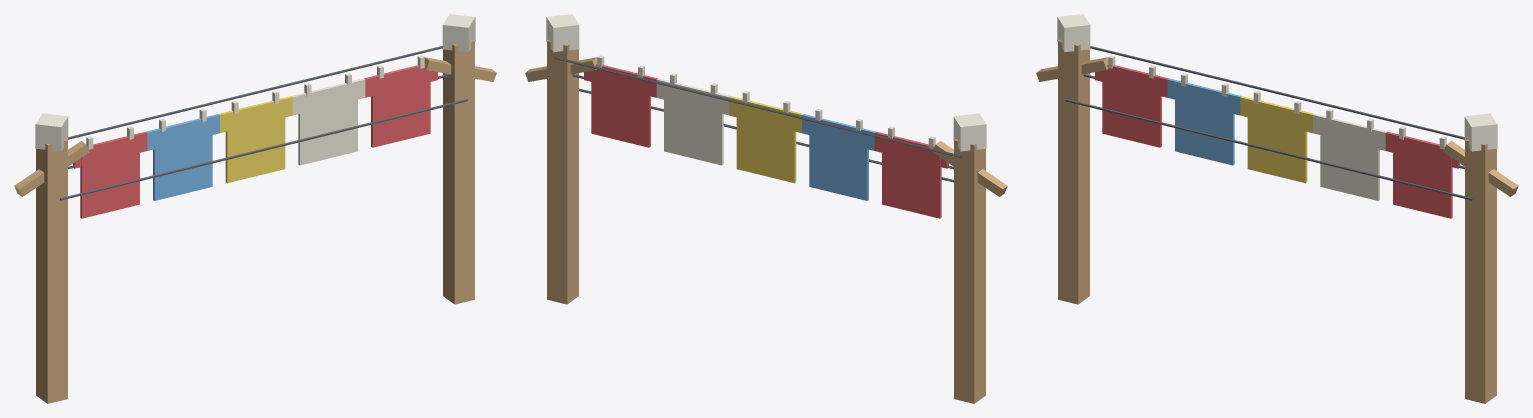
Rendered from lawn-mowing-simulator-kit-washing-line-c5c5993d__27413.glb.
3 views of the same model, side by side, from view 1: azimuth 30°, elevation 25°; view 2: azimuth 150°, elevation 25°; view 3: azimuth 330°, elevation 25° (orthographic).
Parts seen in each view (by area): view 1: washing-line; view 2: washing-line; view 3: washing-line.
Boxes of the visible parts, x1,y1,x2,y2 form: washing-line: (14, 14, 496, 403); washing-line: (525, 14, 1007, 403); washing-line: (1036, 14, 1518, 403).
Size of the model in its own units: 3.29 by 1.82 by 0.2261.
